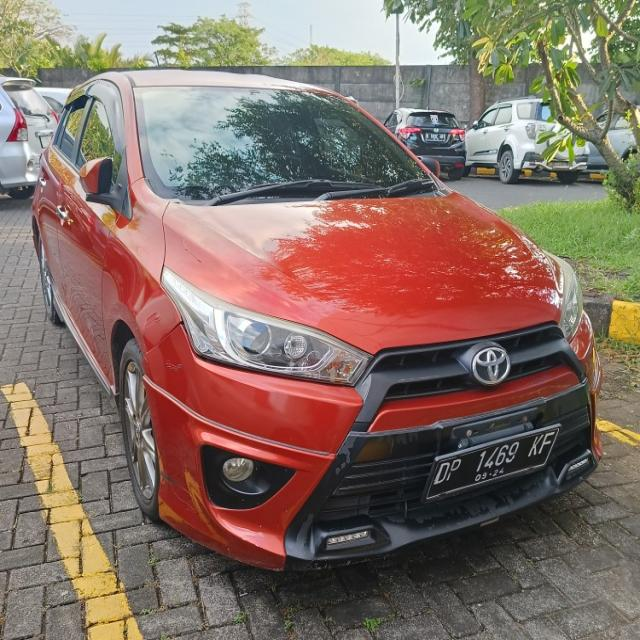plates: (430, 422, 563, 496)
